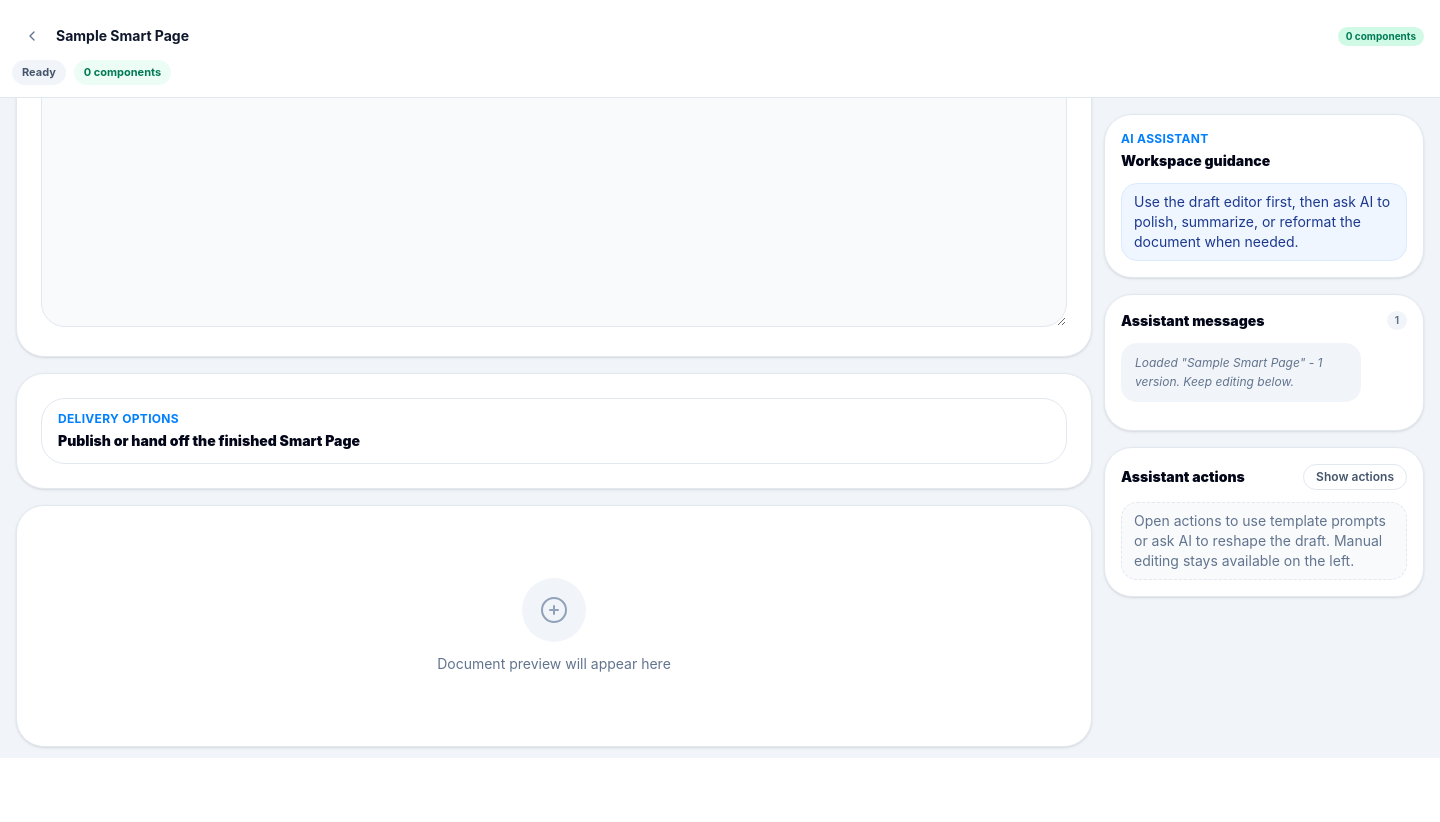
Test: DocumentEditorPage ? Smart Pages flow › shows a visible print error in chat
(page scrolled)
Click the button "Show actions" at (1355, 476), box [1303,464,1407,490]
(page scrolled)
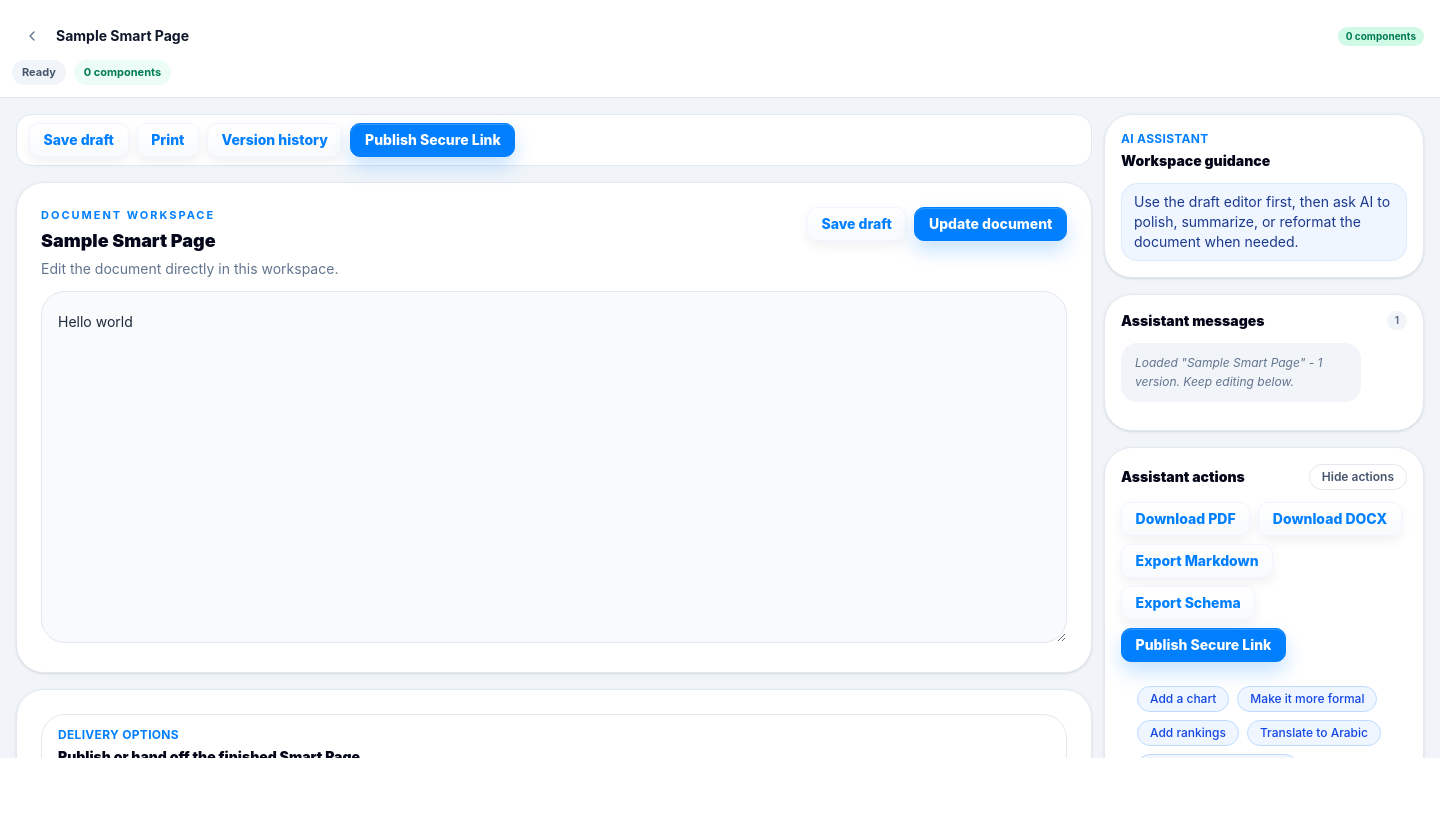
Expected: the button "Print" is shown
Click the button "Print" at (168, 140), box [136,122,199,156]
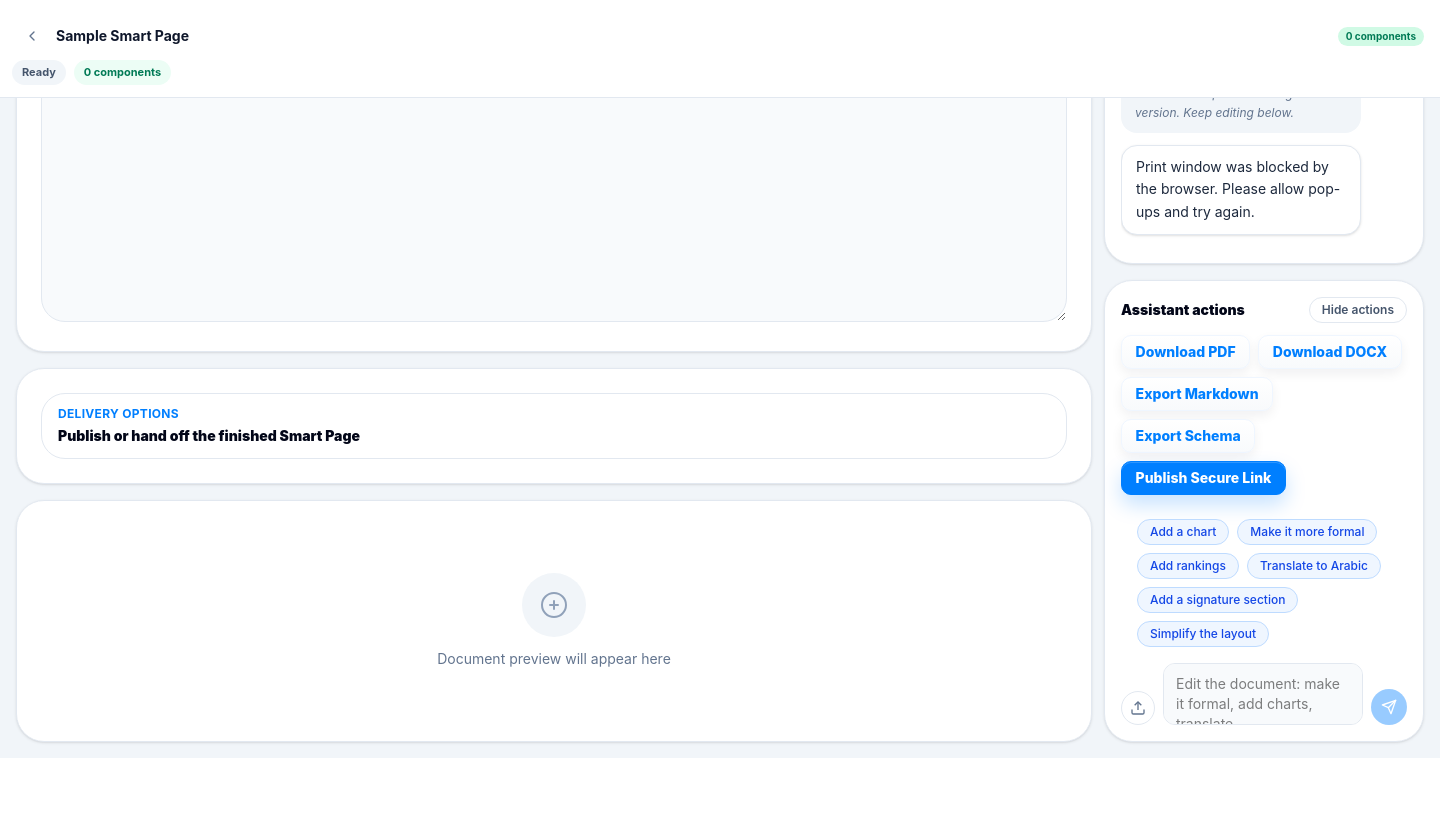
Expected: the text "Print window was blocked" is shown, [1136,158,1340,220]
